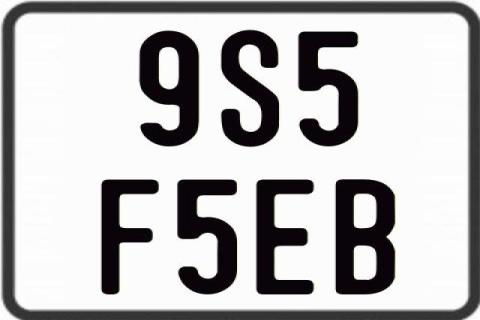0: (295, 29, 360, 148), (139, 28, 203, 147), (176, 179, 238, 299)
B: (333, 177, 398, 295)
E: (255, 177, 314, 293)
F: (101, 178, 162, 294)
S: (219, 27, 282, 147)
